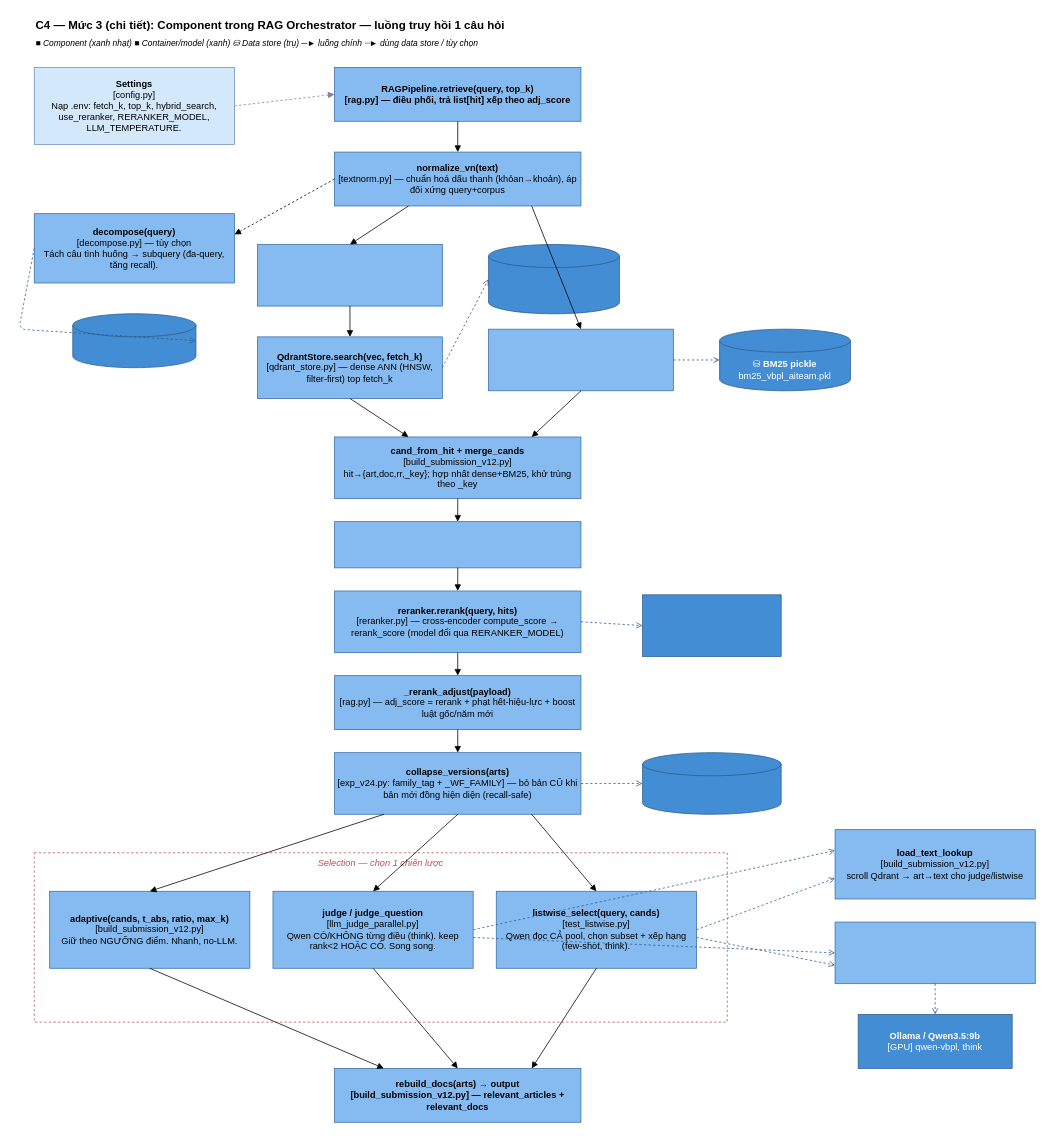
This 1049x1136 diagram has some shape labels left out. Here are the shapes that lost their labels. From the top down, the centre of each, then its label:
(349,275): Embedder.encode(query) [sentence-transformers] AITeamVN-v2 → vector 1024d
(553,279): ⛁ Qdrant vbpl_aiteam (285k)
(134,340): ⛁ subqueries.json
(580,359): BM25Index.search(query) [bm25.py] — lexical top fetch_k (số điều, mã VB)
(457,544): collapse(cands) [build_submission_v12.py] — gộp theo HỌ LUẬT (cùng tên luật)
(711,625): Reranker model [GPU] cross-encoder AITeamVN / FT v3
(711,783): ⛁ version_families.json 134 họ phiên bản
(934,952): LLMClient.complete(sys,user,think) [llm.py] — bọc Ollama; think→/think+strip
